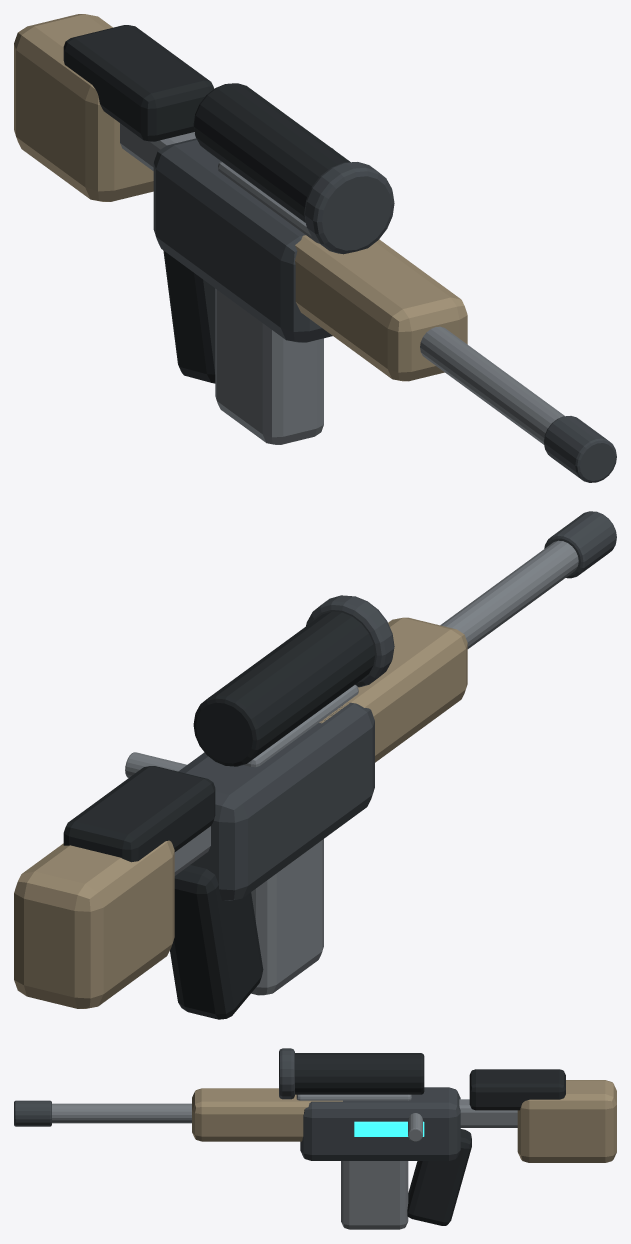
Rendered from scout.glb.
3 views of the same model, one above another, from view 1: azimuth 30°, elevation 25°; view 2: azimuth 150°, elevation 25°; view 3: azimuth 270°, elevation 25° (orthographic). The views are drawn at different scales.
Parts seen in each view (by area): view 1: Receiver.003, Upper handguard.003, Adjustable stock.002, Magazine.003, Cheek rest.001, Scope body.001, Scope objective.001, Barrel.003, Pistol grip.003, Muzzle brake.003, Buffer tube.002, Scope rail.001; view 2: Adjustable stock.002, Receiver.003, Scope body.001, Pistol grip.003, Cheek rest.001, Upper handguard.003, Magazine.003, Barrel.003, Scope objective.001, Muzzle brake.003, Scope rail.001, Buffer tube.002 (+1 smaller); view 3: Receiver.003, Adjustable stock.002, Upper handguard.003, Scope body.001, Magazine.003, Cheek rest.001, Pistol grip.003, Barrel.003, Buffer tube.002, Muzzle brake.003, Aurora serial plate.003, Scope objective.001 (+2 smaller).
Part boxes in pixels (box(x1,y1,x2,y2)): Receiver.003: box(153, 138, 332, 342); Upper handguard.003: box(295, 235, 467, 381); Adjustable stock.002: box(14, 14, 153, 201); Magazine.003: box(215, 288, 323, 444); Cheek rest.001: box(63, 25, 214, 141); Scope body.001: box(193, 83, 350, 222); Scope objective.001: box(304, 162, 394, 254); Barrel.003: box(420, 326, 564, 444); Pistol grip.003: box(163, 250, 215, 383); Muzzle brake.003: box(544, 416, 616, 482); Buffer tube.002: box(120, 123, 195, 170); Scope rail.001: box(217, 161, 319, 243); Adjustable stock.002: box(14, 840, 174, 1008); Receiver.003: box(178, 702, 374, 900); Scope body.001: box(193, 611, 375, 766); Pistol grip.003: box(170, 865, 263, 1019); Cheek rest.001: box(63, 766, 215, 862); Upper handguard.003: box(319, 617, 467, 762); Magazine.003: box(251, 839, 323, 995); Barrel.003: box(440, 540, 578, 648); Scope objective.001: box(306, 595, 394, 687); Muzzle brake.003: box(544, 511, 616, 578); Scope rail.001: box(244, 685, 358, 767); Buffer tube.002: box(174, 826, 210, 875); Receiver.003: box(300, 1087, 460, 1160); Adjustable stock.002: box(517, 1080, 616, 1162); Upper handguard.003: box(192, 1088, 342, 1141); Scope body.001: box(295, 1053, 424, 1094); Magazine.003: box(341, 1161, 408, 1229); Cheek rest.001: box(469, 1069, 565, 1110); Pistol grip.003: box(407, 1129, 471, 1225); Barrel.003: box(52, 1103, 191, 1123); Buffer tube.002: box(459, 1099, 517, 1127); Muzzle brake.003: box(14, 1100, 51, 1126); Aurora serial plate.003: box(354, 1121, 424, 1136); Scope objective.001: box(279, 1048, 294, 1099).
Size of the model in its own units: 0.32 by 0.658 by 2.07.
